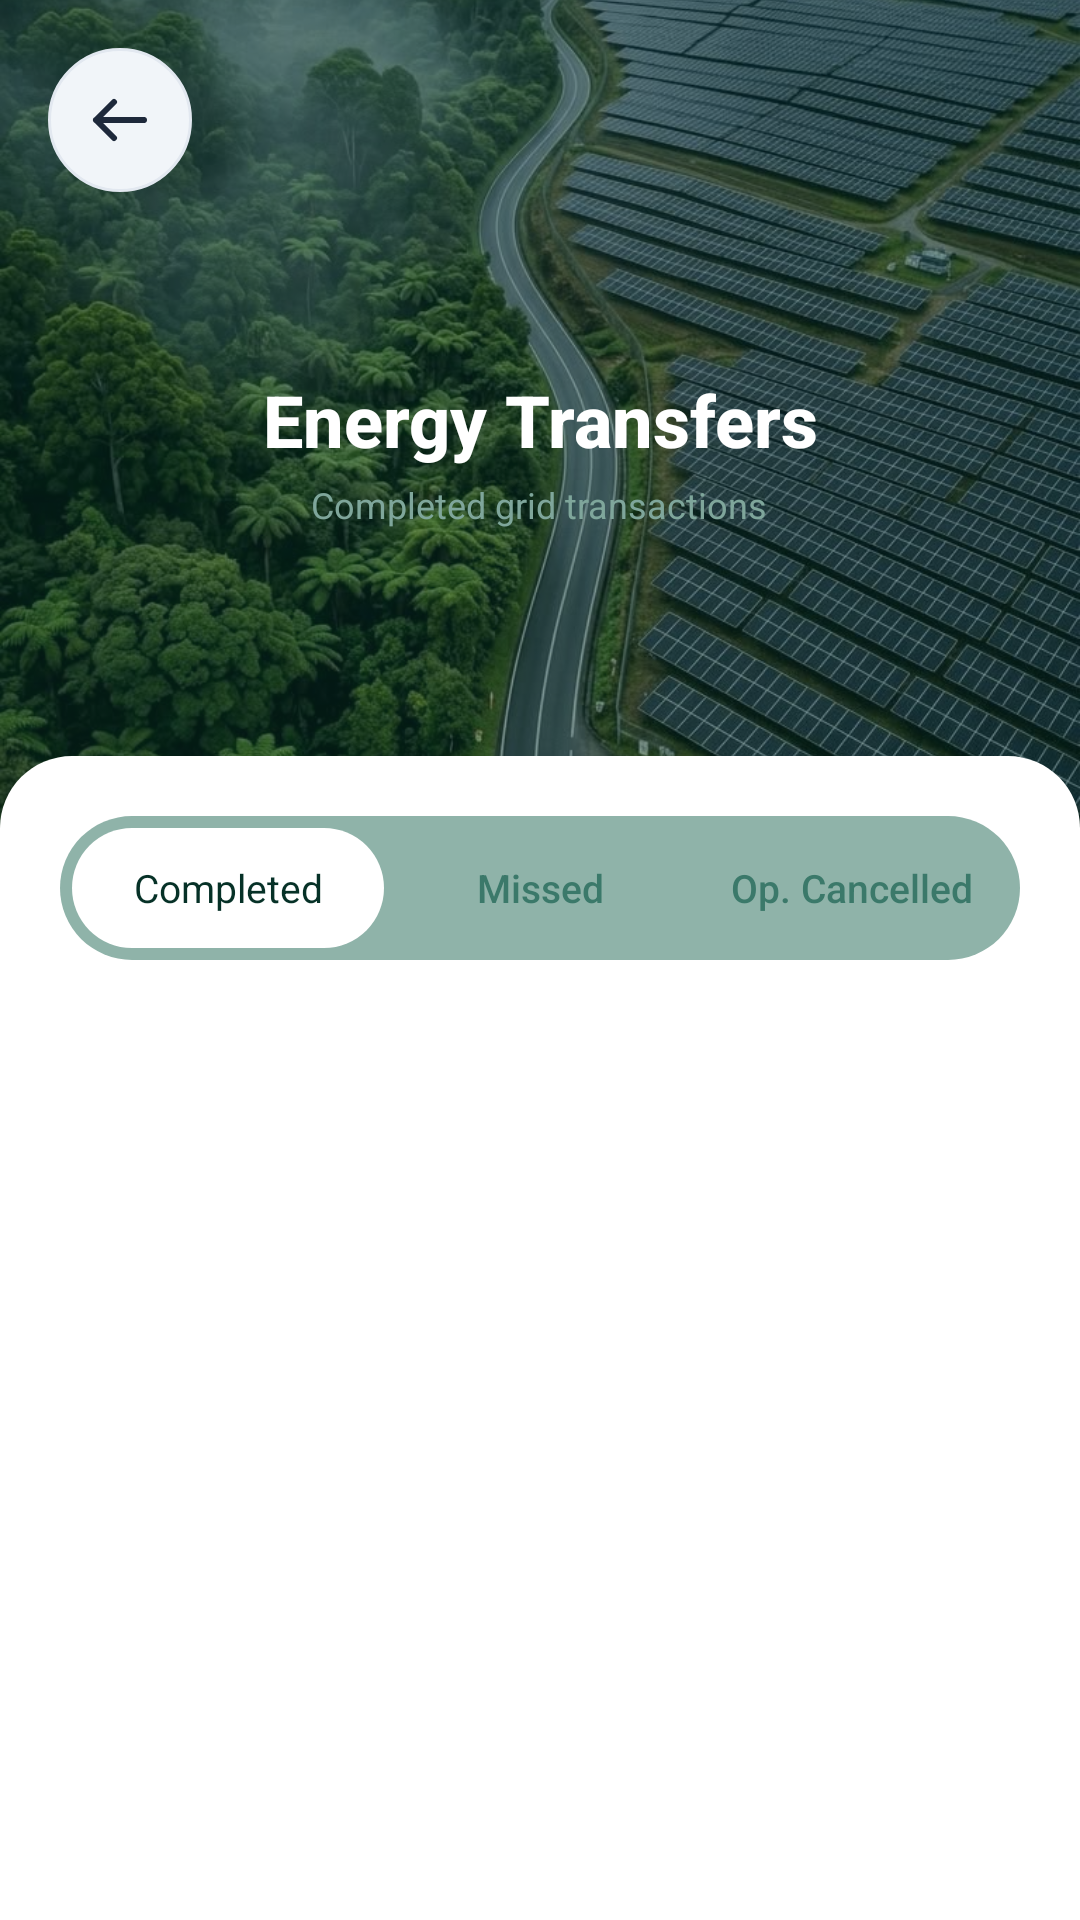

Point at icon controls on the screen. Image size 1080×1920, points as [x,y].
Back: [120,120]
